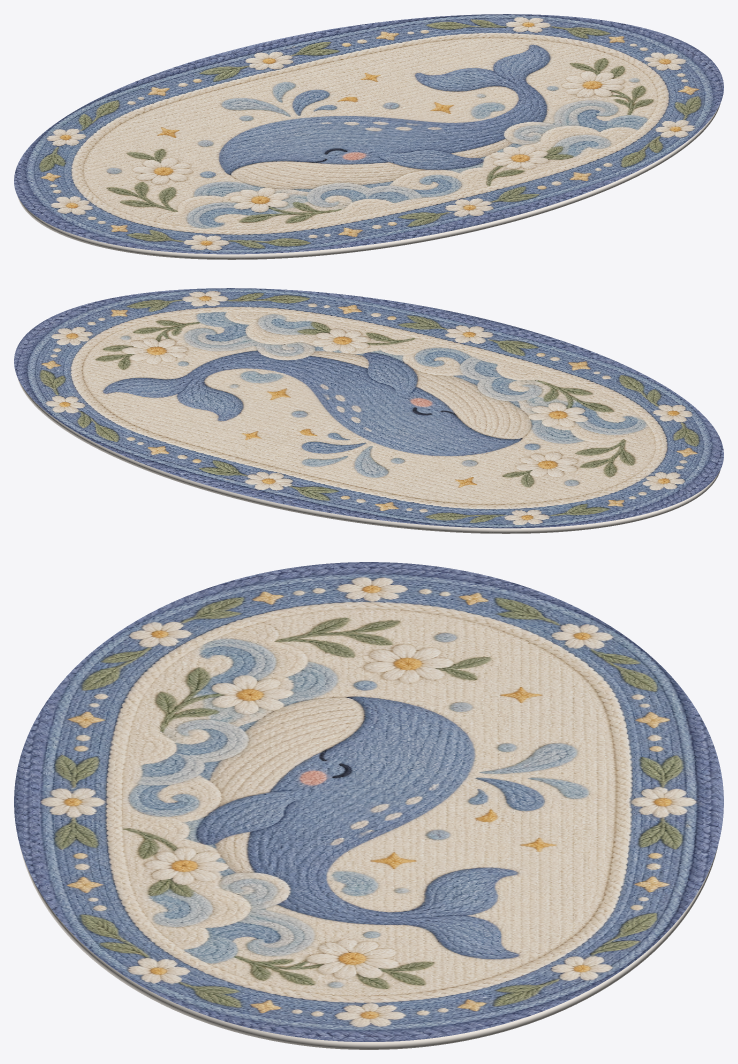
The model's file is whale-rug-v1.glb.
The picture shows the model from 3 angles, top to bottom: view 1: azimuth 30°, elevation 25°; view 2: azimuth 150°, elevation 25°; view 3: azimuth 270°, elevation 25°; orthographic projection. The views are drawn at different scales.
Visible parts, largest first — view 1: whale-rug-v1-top, whale-rug-v1-edge; view 2: whale-rug-v1-top, whale-rug-v1-edge; view 3: whale-rug-v1-top, whale-rug-v1-edge.
Boxes of the visible parts, bbox=[...] form: whale-rug-v1-top: bbox=[14, 14, 723, 254]; whale-rug-v1-edge: bbox=[17, 103, 720, 259]; whale-rug-v1-top: bbox=[14, 288, 723, 528]; whale-rug-v1-edge: bbox=[17, 377, 720, 533]; whale-rug-v1-top: bbox=[14, 562, 723, 1041]; whale-rug-v1-edge: bbox=[20, 846, 717, 1049].
Bounding box in the file's own units: 2 × 0.018 × 1.25.
2 materials, 2 textured.
